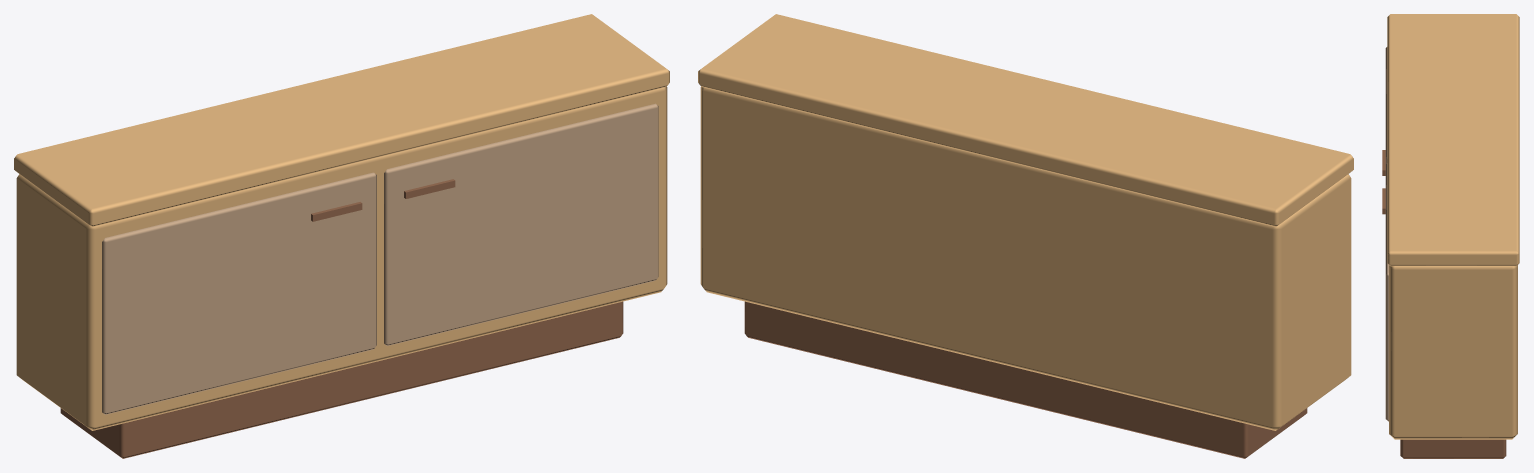
File: kit_sideboard_v1.glb
3 renders of one model, left to right at view 1: azimuth 30°, elevation 25°; view 2: azimuth 150°, elevation 25°; view 3: azimuth 270°, elevation 25°, orthographic. The views are drawn at different scales.
Visible parts, largest first — view 1: body; view 2: body; view 3: body.
Boxes of the visible parts, bbox=[...] form: body: bbox=[14, 14, 669, 458]; body: bbox=[698, 14, 1353, 458]; body: bbox=[1382, 14, 1519, 458].
Bounding box in the file's own units: 1.65 × 0.72 × 0.4.
